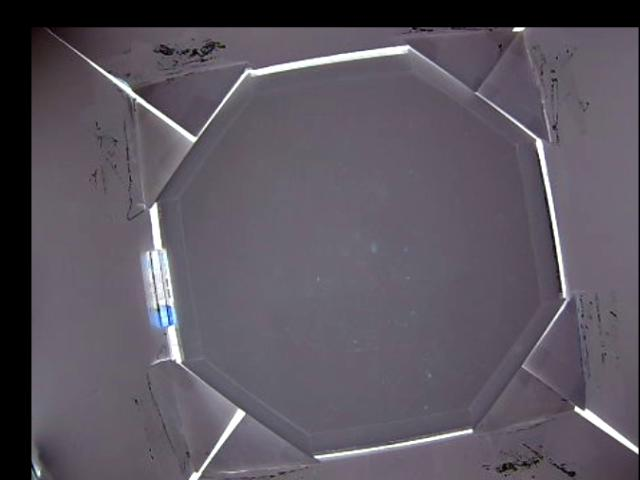Battery: (149, 248, 176, 328)
